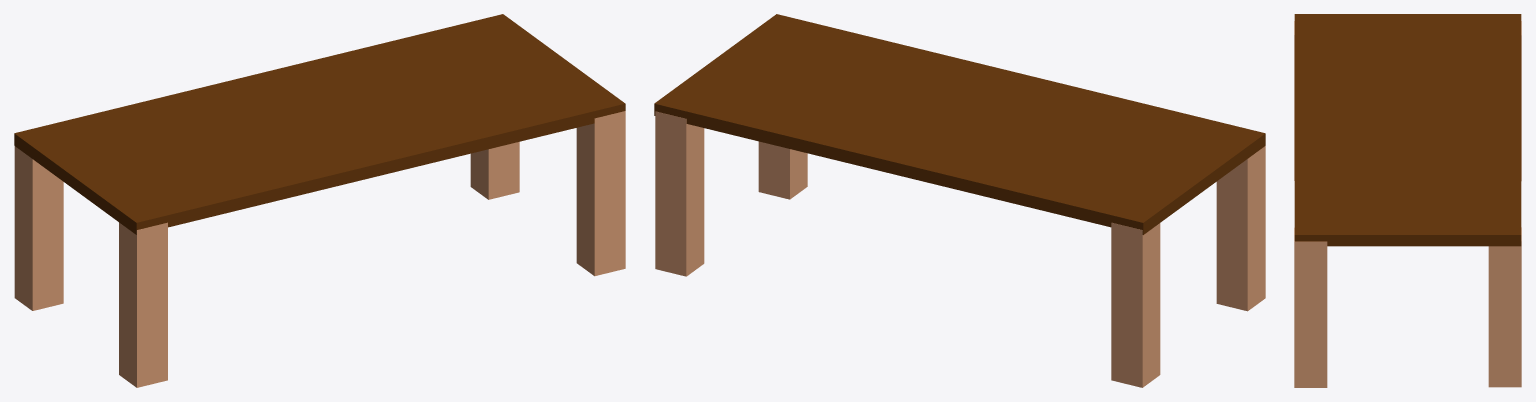
3 views of the same model, side by side, from view 1: azimuth 30°, elevation 25°; view 2: azimuth 150°, elevation 25°; view 3: azimuth 270°, elevation 25° (orthographic). The views are drawn at different scales.
Visible parts, largest first — view 1: Cube, Cube.003, Cube.002, Cube.004, Cube.001; view 2: Cube, Cube.004, Cube.001, Cube.003, Cube.002; view 3: Cube, Cube.002, Cube.001.
Boxes of the visible parts, box(x1,y1,x2,y2) form: Cube: box(14, 14, 625, 234); Cube.003: box(119, 222, 167, 387); Cube.002: box(576, 111, 625, 276); Cube.004: box(14, 146, 63, 310); Cube.001: box(470, 142, 519, 199); Cube: box(654, 14, 1265, 234); Cube.004: box(1111, 222, 1160, 387); Cube.001: box(655, 111, 704, 276); Cube.003: box(1216, 146, 1265, 311); Cube.002: box(758, 141, 807, 199); Cube: box(1294, 14, 1521, 246); Cube.002: box(1294, 228, 1327, 387); Cube.001: box(1488, 227, 1521, 387).
Size of the model in its own units: 6.49 by 2.09 by 2.82.
